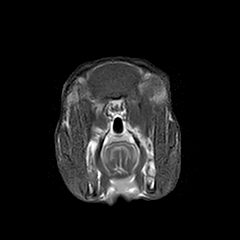Brain: (65, 32, 164, 130)
